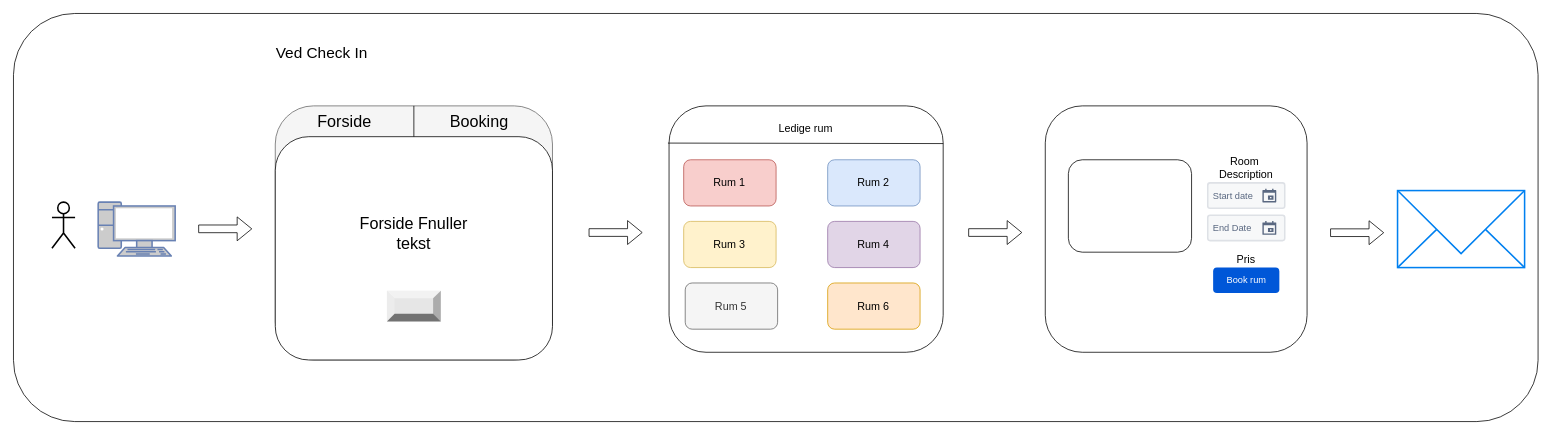
Some shapes in this 1552 by 435 pixel diagram are drawn without their labels. The shapes that lost their labels are listed below. From the top down, each one's box as (x1, y1, x2, y2) in pixels, then its label:
(51, 201, 75, 249): Kunde (Lars)
(1068, 159, 1192, 252): Very nice picture
(97, 201, 176, 256): landlyst.hotel
(1396, 189, 1525, 268): Send bekræftelse email
(387, 290, 440, 321): book nu!
